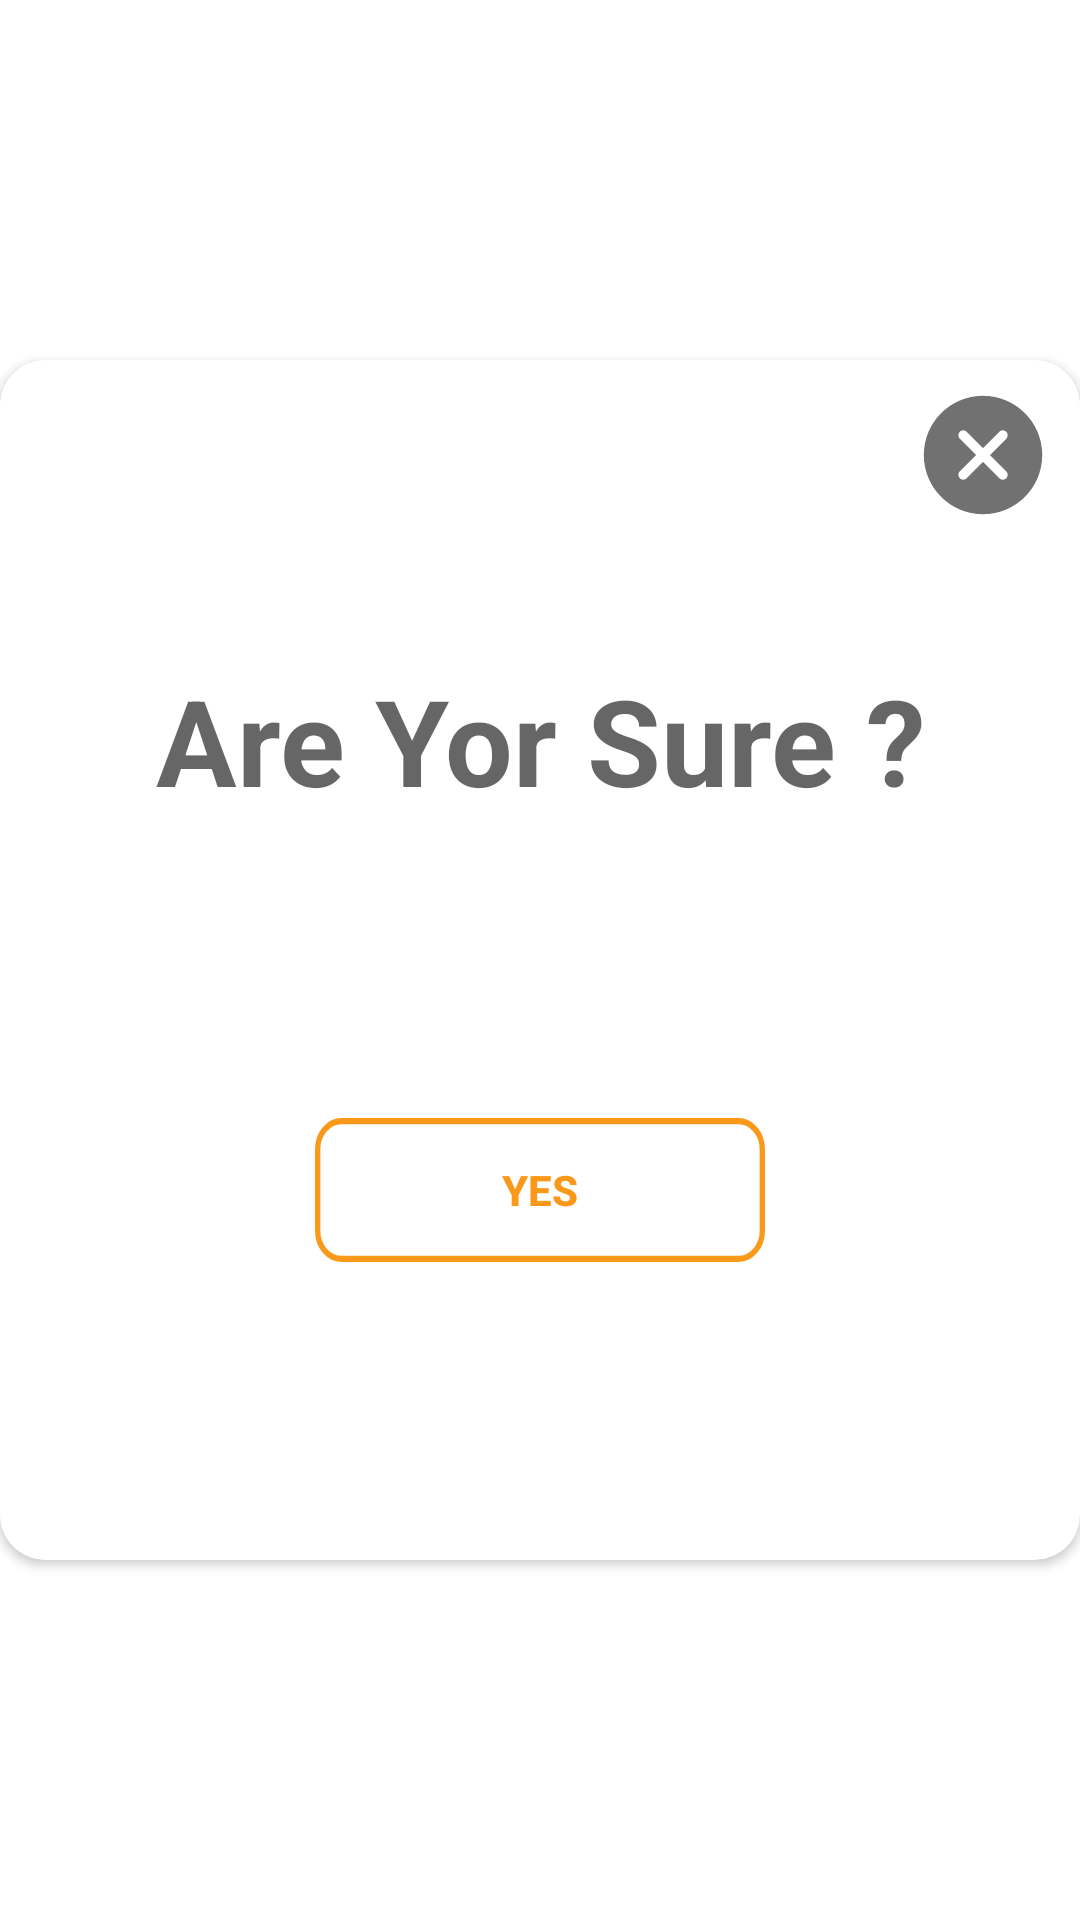

Where icons sit on this 1080 x 1920 app screen, as (x1, y1, x2, y2):
close: (923, 395, 1043, 515)
